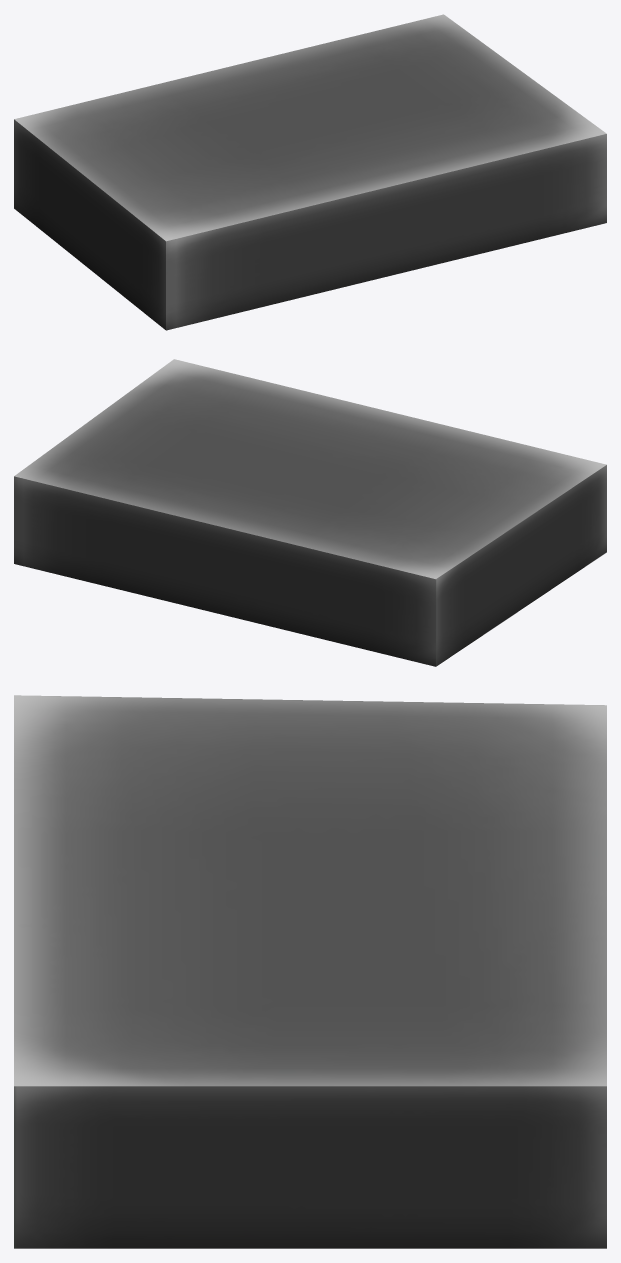
File: StonePath_05.fbx
The picture shows the model from 3 angles, top to bottom: view 1: azimuth 30°, elevation 25°; view 2: azimuth 150°, elevation 25°; view 3: azimuth 270°, elevation 25°; orthographic projection. The views are drawn at different scales.
Visible parts, largest first — view 1: StonePath_05; view 2: StonePath_05; view 3: StonePath_05.
Part boxes in pixels (x1,y1,x2,y2): StonePath_05: (14,14,606,330); StonePath_05: (14,359,606,666); StonePath_05: (14,695,606,1248).
Bounding box in the file's own units: 44.37 × 8.58 × 28.43.
1 material, 1 textured.
